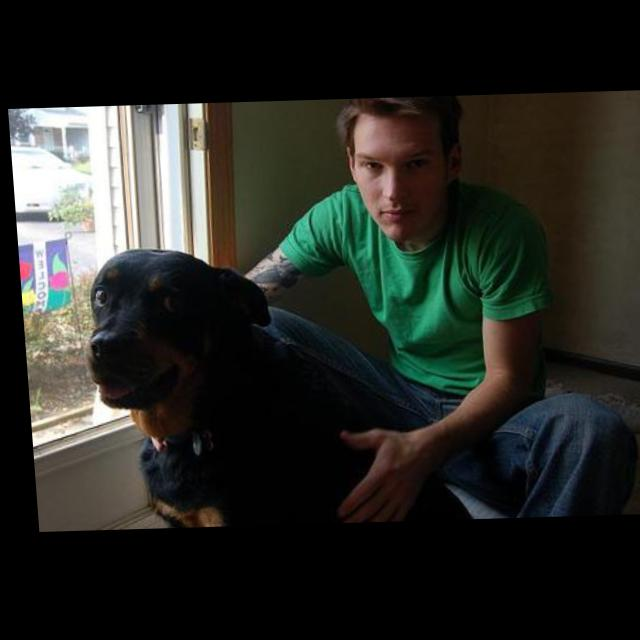face: (349, 114, 447, 244)
person: (227, 95, 636, 527)
rottweiler: (75, 241, 472, 531)
